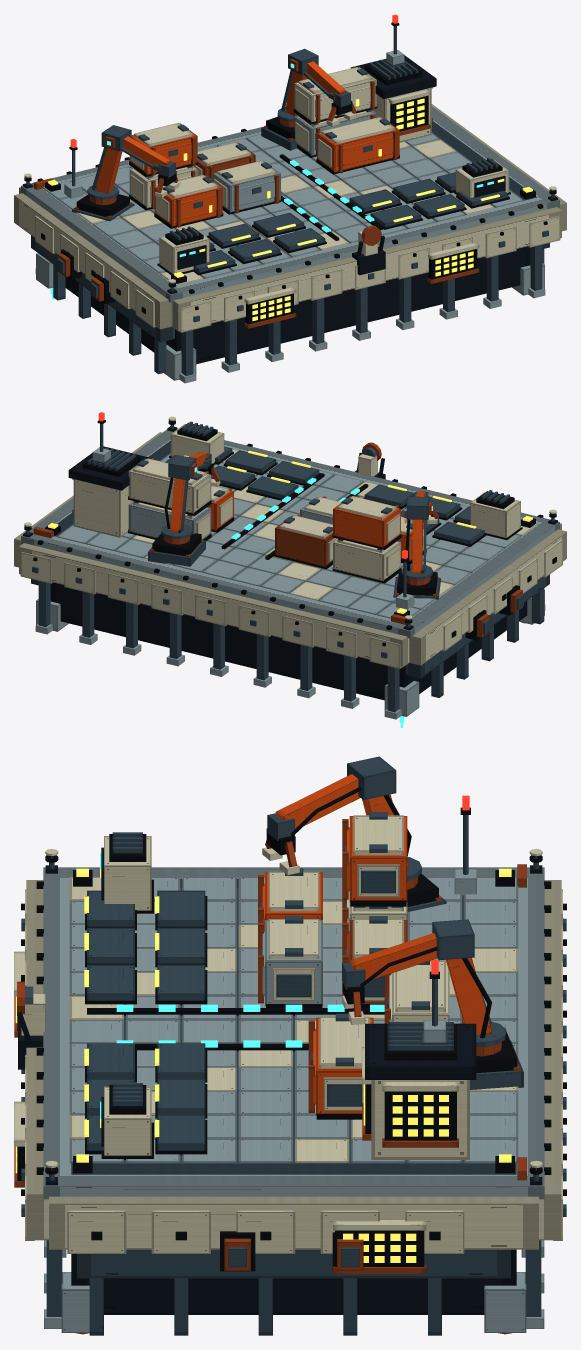
The model's file is cargo_relay.glb.
3 views of the same model, one above another, from view 1: azimuth 30°, elevation 25°; view 2: azimuth 150°, elevation 25°; view 3: azimuth 270°, elevation 25° (orthographic). The views are drawn at different scales.
Visible parts, largest first — view 1: cargo_exchange_static / module, cargo_arm_west_upper_arm / module, cargo_arm_east_upper_arm / module, cargo_arm_east_forearm_and_gripper / module, cargo_arm_west_forearm_and_gripper / module, Ship_01_BerthedCarrier / connected pressure berth / module; view 2: cargo_exchange_static / module, cargo_arm_east_upper_arm / module, cargo_arm_west_upper_arm / module, Ship_01_BerthedCarrier / connected pressure berth / module, cargo_arm_east_forearm_and_gripper / module; view 3: cargo_exchange_static / module, cargo_arm_east_upper_arm / module, cargo_arm_west_forearm_and_gripper / module, cargo_arm_west_upper_arm / module, cargo_arm_east_forearm_and_gripper / module, Ship_01_BerthedCarrier / connected pressure berth / module.
Boxes of the visible parts, left/top/right/bottom form: cargo_exchange_static / module: left=14, top=14, right=566, bottom=383; cargo_arm_west_upper_arm / module: left=72, top=125, right=134, bottom=221; cargo_arm_east_upper_arm / module: left=261, top=48, right=318, bottom=150; cargo_arm_east_forearm_and_gripper / module: left=304, top=61, right=357, bottom=126; cargo_arm_west_forearm_and_gripper / module: left=121, top=136, right=179, bottom=197; Ship_01_BerthedCarrier / connected pressure berth / module: left=352, top=225, right=385, bottom=275; cargo_exchange_static / module: left=14, top=412, right=566, bottom=719; cargo_arm_east_upper_arm / module: left=148, top=455, right=205, bottom=566; cargo_arm_west_upper_arm / module: left=393, top=496, right=440, bottom=599; Ship_01_BerthedCarrier / connected pressure berth / module: left=355, top=442, right=385, bottom=479; cargo_arm_east_forearm_and_gripper / module: left=189, top=452, right=220, bottom=486; cargo_exchange_static / module: left=14, top=795, right=566, bottom=1335; cargo_arm_east_upper_arm / module: left=432, top=919, right=523, bottom=1089; cargo_arm_west_forearm_and_gripper / module: left=262, top=774, right=361, bottom=875; cargo_arm_west_upper_arm / module: left=347, top=756, right=446, bottom=912; cargo_arm_east_forearm_and_gripper / module: left=342, top=933, right=437, bottom=1024; Ship_01_BerthedCarrier / connected pressure berth / module: left=17, top=981, right=45, bottom=1069.
Bounding box in the file's own units: 29.44 × 14.49 × 19.63.
10 materials, 10 textured.
